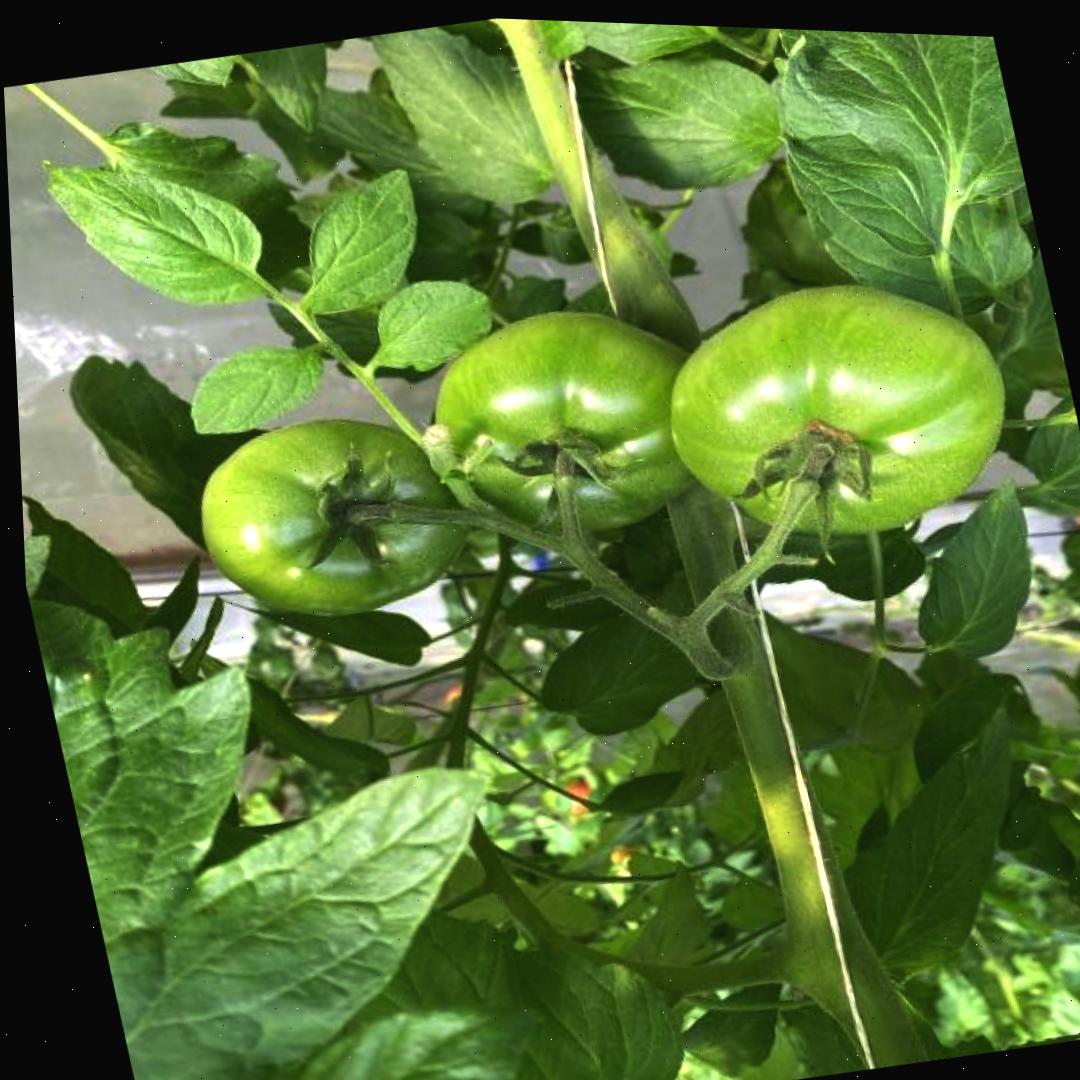mentah: (638, 253, 1034, 572), (406, 282, 737, 566), (175, 388, 499, 647)
